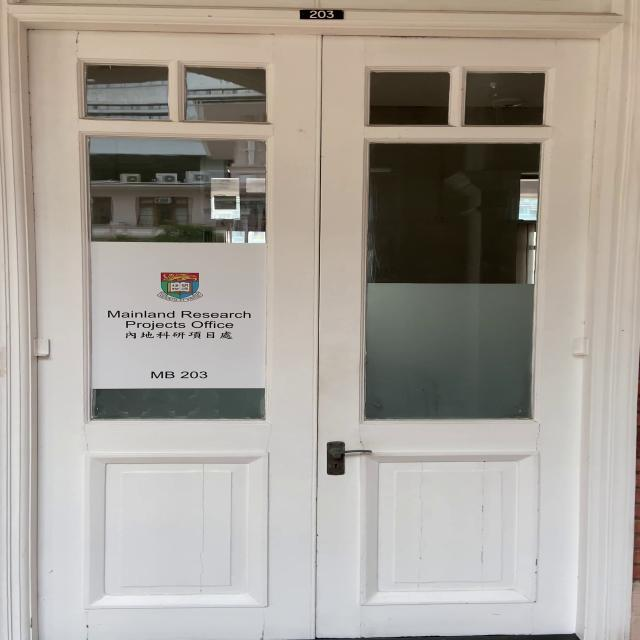room203: (298, 7, 344, 20)
room203Window: (138, 367, 216, 381)
